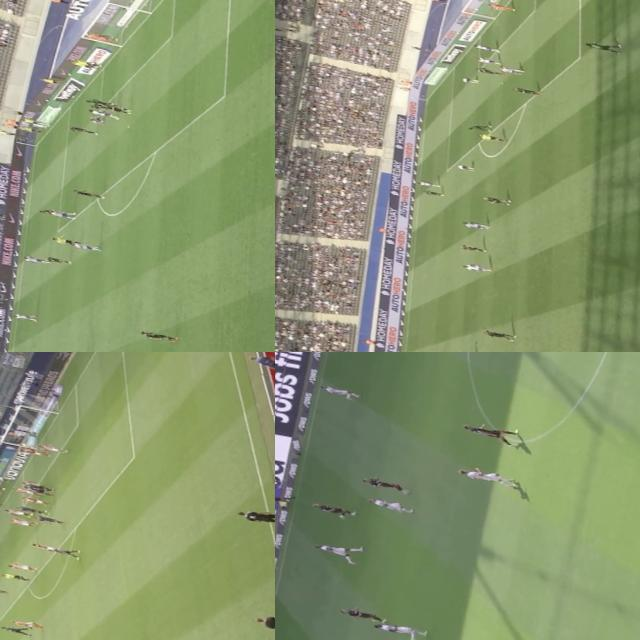player: (310, 534, 370, 566), (369, 615, 439, 640), (462, 418, 520, 448), (459, 462, 518, 489), (358, 472, 414, 495), (368, 491, 418, 516), (308, 496, 361, 518), (340, 602, 386, 622), (134, 324, 178, 344), (318, 382, 361, 398), (12, 614, 48, 632), (584, 36, 622, 53), (4, 558, 39, 574), (47, 542, 81, 558), (477, 191, 512, 206), (70, 238, 107, 252), (84, 32, 120, 46), (40, 205, 70, 221), (463, 260, 492, 276), (68, 188, 106, 200), (29, 539, 60, 553), (468, 42, 501, 55), (22, 252, 52, 266), (18, 445, 50, 458), (1, 506, 35, 518), (47, 207, 78, 220), (458, 242, 489, 255), (483, 329, 516, 341), (15, 502, 48, 514), (465, 120, 492, 134), (514, 83, 541, 97), (20, 494, 50, 506), (38, 442, 68, 454), (17, 441, 49, 452), (462, 220, 491, 232), (34, 514, 63, 526), (0, 623, 31, 634), (66, 124, 100, 134), (86, 108, 120, 118), (8, 486, 42, 496), (46, 253, 72, 266), (485, 1, 515, 12), (474, 54, 501, 66), (10, 515, 37, 527), (23, 485, 53, 495), (11, 311, 38, 322), (86, 95, 112, 106), (18, 478, 46, 488), (475, 66, 502, 76), (106, 104, 132, 113), (454, 162, 476, 172), (26, 482, 50, 491), (419, 179, 440, 189), (500, 66, 524, 74), (460, 75, 479, 85), (90, 102, 112, 110), (424, 189, 444, 197), (92, 112, 106, 123), (0, 584, 10, 598), (58, 348, 91, 352)
